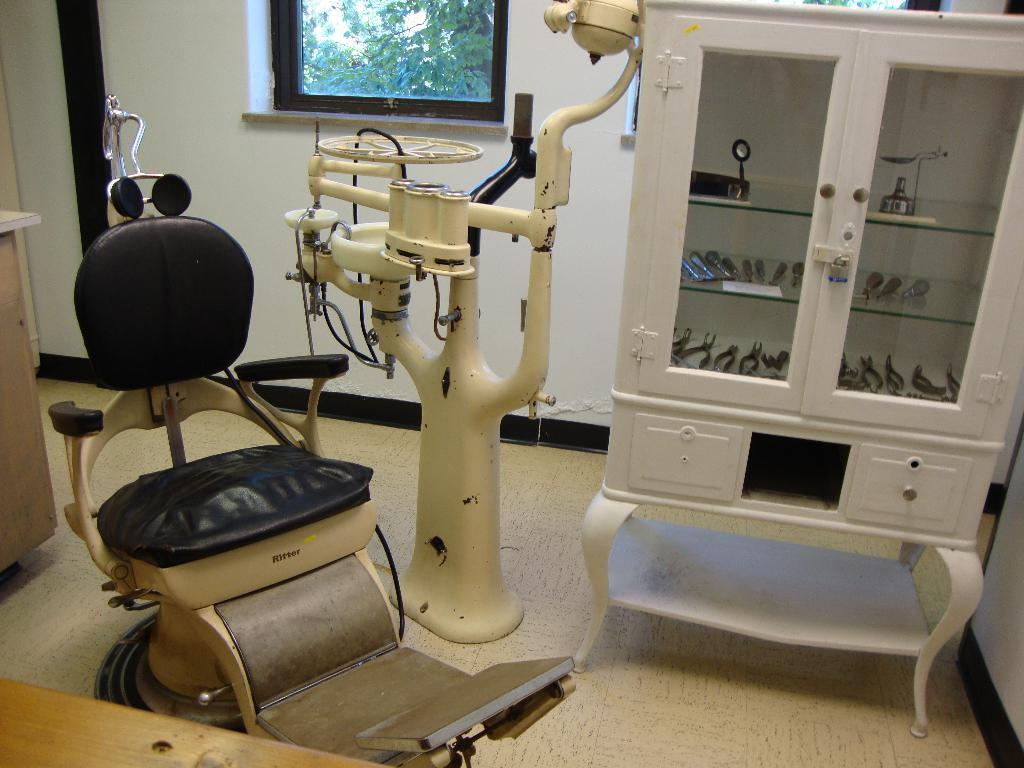Chair: (51, 214, 579, 767)
